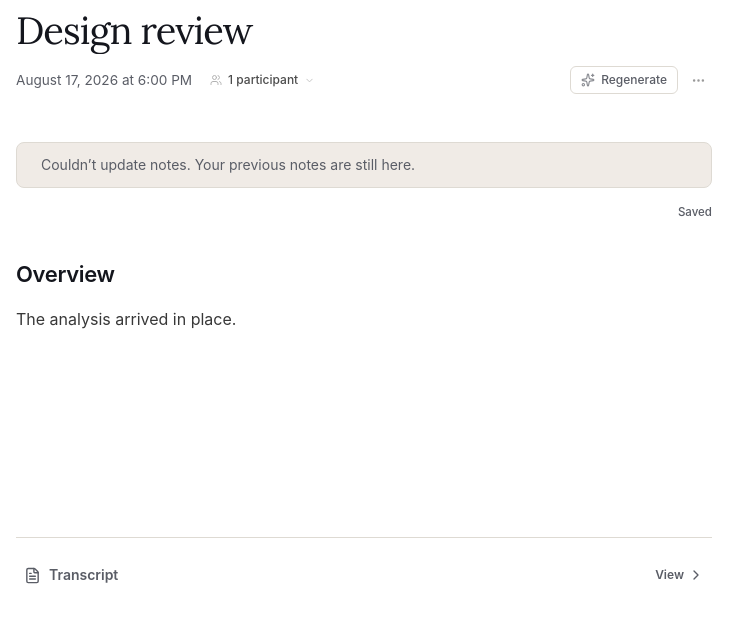
Test: MeetingView progressive reveal › keeps existing notes visible and offers recovery when regeneration fails
Click the button with aria-label "Regenerate Enhanced Notes" at (624, 80), box [570,66,678,94]
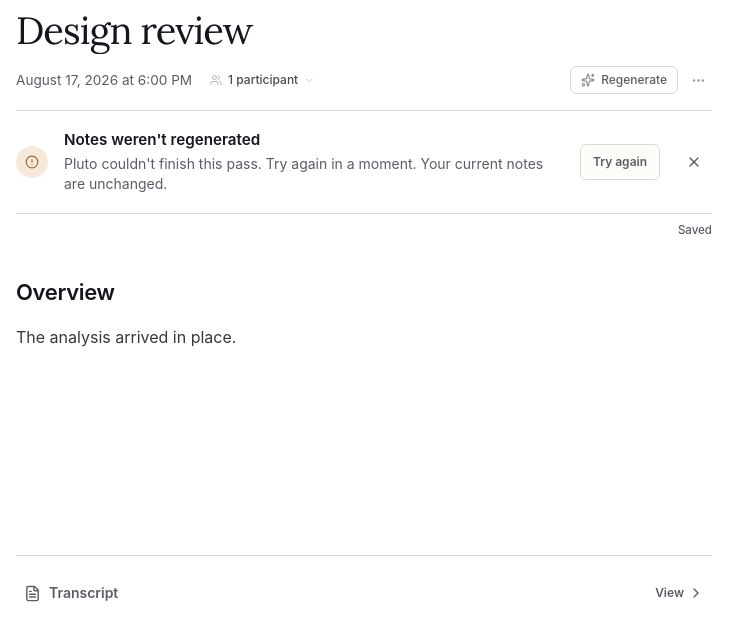
Result: the message shows "Notes weren't regenerated" at [64,130,260,149]
Result: the message shows "Your current notes are unchanged." at [64,155,543,192]
Result: the message shows "Try again" at [580,144,660,180]
Click the button named "Dismiss regeneration error" at (694, 162), box [676,144,712,180]
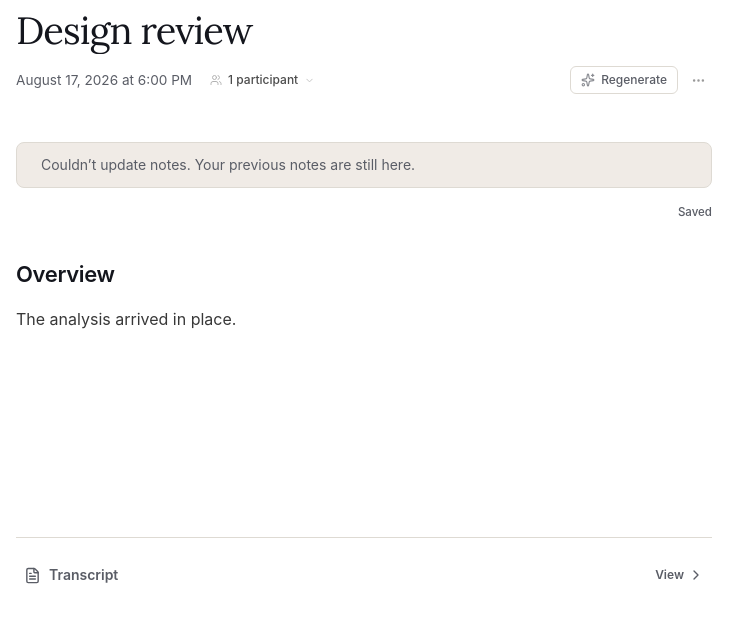
Result: the text "Couldn’t update notes. Your previous notes are still here." is shown at [16,142,712,188]
